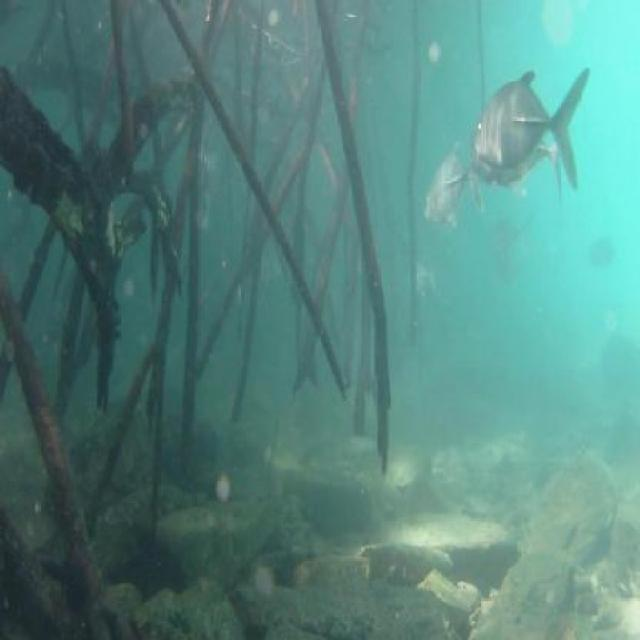Caranx_sexfasciatus_juvenile: (472, 63, 598, 195), (472, 91, 568, 226), (420, 140, 482, 243), (488, 211, 542, 260)
